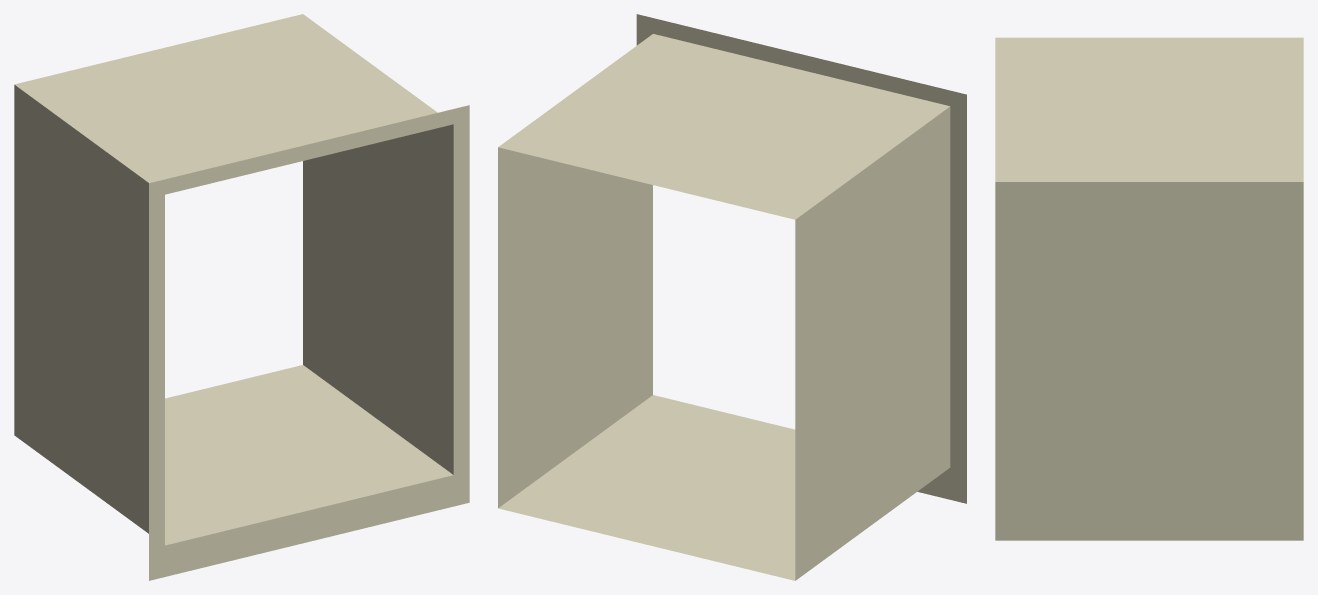
The model's file is changing_room.fbx.
3 views of the same model, side by side, from view 1: azimuth 30°, elevation 25°; view 2: azimuth 150°, elevation 25°; view 3: azimuth 270°, elevation 25° (orthographic). The views are drawn at different scales.
Parts seen in each view (by area): view 1: changing_room; view 2: changing_room; view 3: changing_room.
Boxes of the visible parts, x1,y1,x2,y2 form: changing_room: (14,14,469,580); changing_room: (498,14,966,580); changing_room: (995,37,1303,540).
Bounding box in the file's own units: 3.42 × 4.05 × 2.78.
